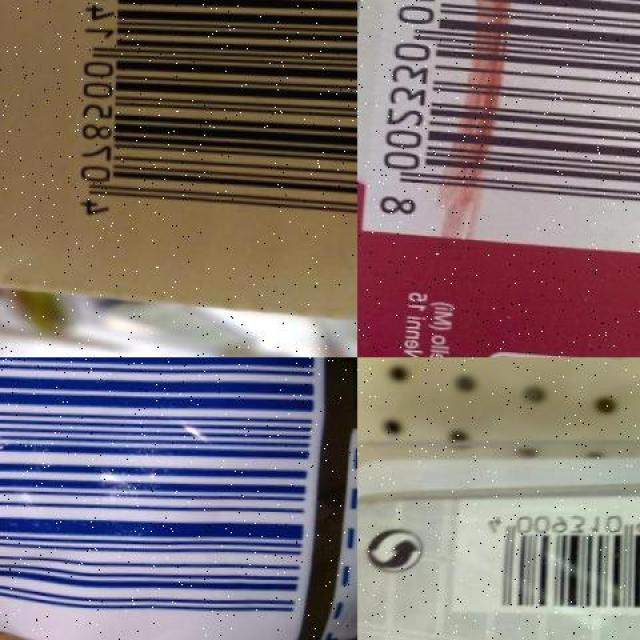Barcode: (0, 357, 327, 640), (47, 0, 357, 249), (361, 0, 640, 251), (454, 497, 640, 613)
